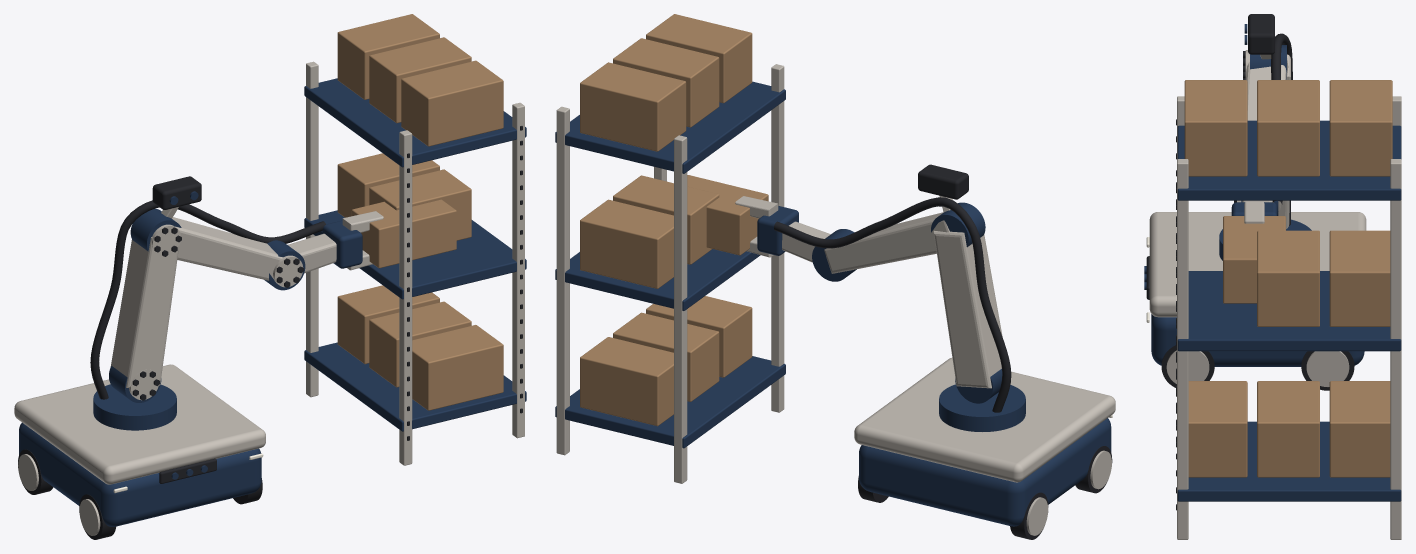
The model's file is robots-60.glb.
3 renders of one model, left to right at view 1: azimuth 30°, elevation 25°; view 2: azimuth 150°, elevation 25°; view 3: azimuth 270°, elevation 25°, orthographic. The views are drawn at different scales.
Parts seen in each view (by area): view 1: cartons, base, shelves, rack, links, target, joints, loom, mount, wheels, jaws, head (+2 smaller); view 2: cartons, base, shelves, rack, links, loom, target, mount, joints, wheels, jaws, head; view 3: cartons, shelves, base, rack, target, wheels, head, links, jaws, loom, joints.
Part boxes in pixels (x1,y1,x2,y2): cartons: (337, 14, 503, 410); base: (14, 364, 265, 526); shelves: (304, 78, 526, 431); rack: (306, 61, 524, 465); links: (110, 217, 336, 387); target: (351, 199, 456, 268); joints: (109, 208, 305, 402); loom: (90, 200, 325, 399); mount: (93, 384, 176, 430); wheels: (18, 449, 262, 539); jaws: (322, 211, 383, 270); head: (152, 176, 201, 218); cartons: (580, 14, 752, 426); base: (854, 358, 1115, 526); shelves: (555, 81, 785, 448); rack: (556, 64, 784, 483); links: (782, 212, 1002, 388); loom: (774, 197, 1011, 412); target: (687, 175, 768, 255); mount: (939, 384, 1025, 431); joints: (812, 202, 1002, 403); wheels: (858, 446, 1112, 539); jaws: (735, 196, 798, 257); head: (918, 164, 968, 212); cartons: (1184, 80, 1392, 477); shelves: (1177, 120, 1401, 501); base: (1149, 212, 1366, 366); rack: (1177, 96, 1401, 539); target: (1223, 216, 1285, 303); wheels: (1161, 345, 1354, 390); head: (1244, 14, 1274, 59); links: (1242, 54, 1290, 228); jaws: (1231, 202, 1277, 223); loom: (1271, 33, 1292, 225); joints: (1234, 45, 1286, 215).
Size of the model in its own units: 3.26 by 2.58 by 1.47.
